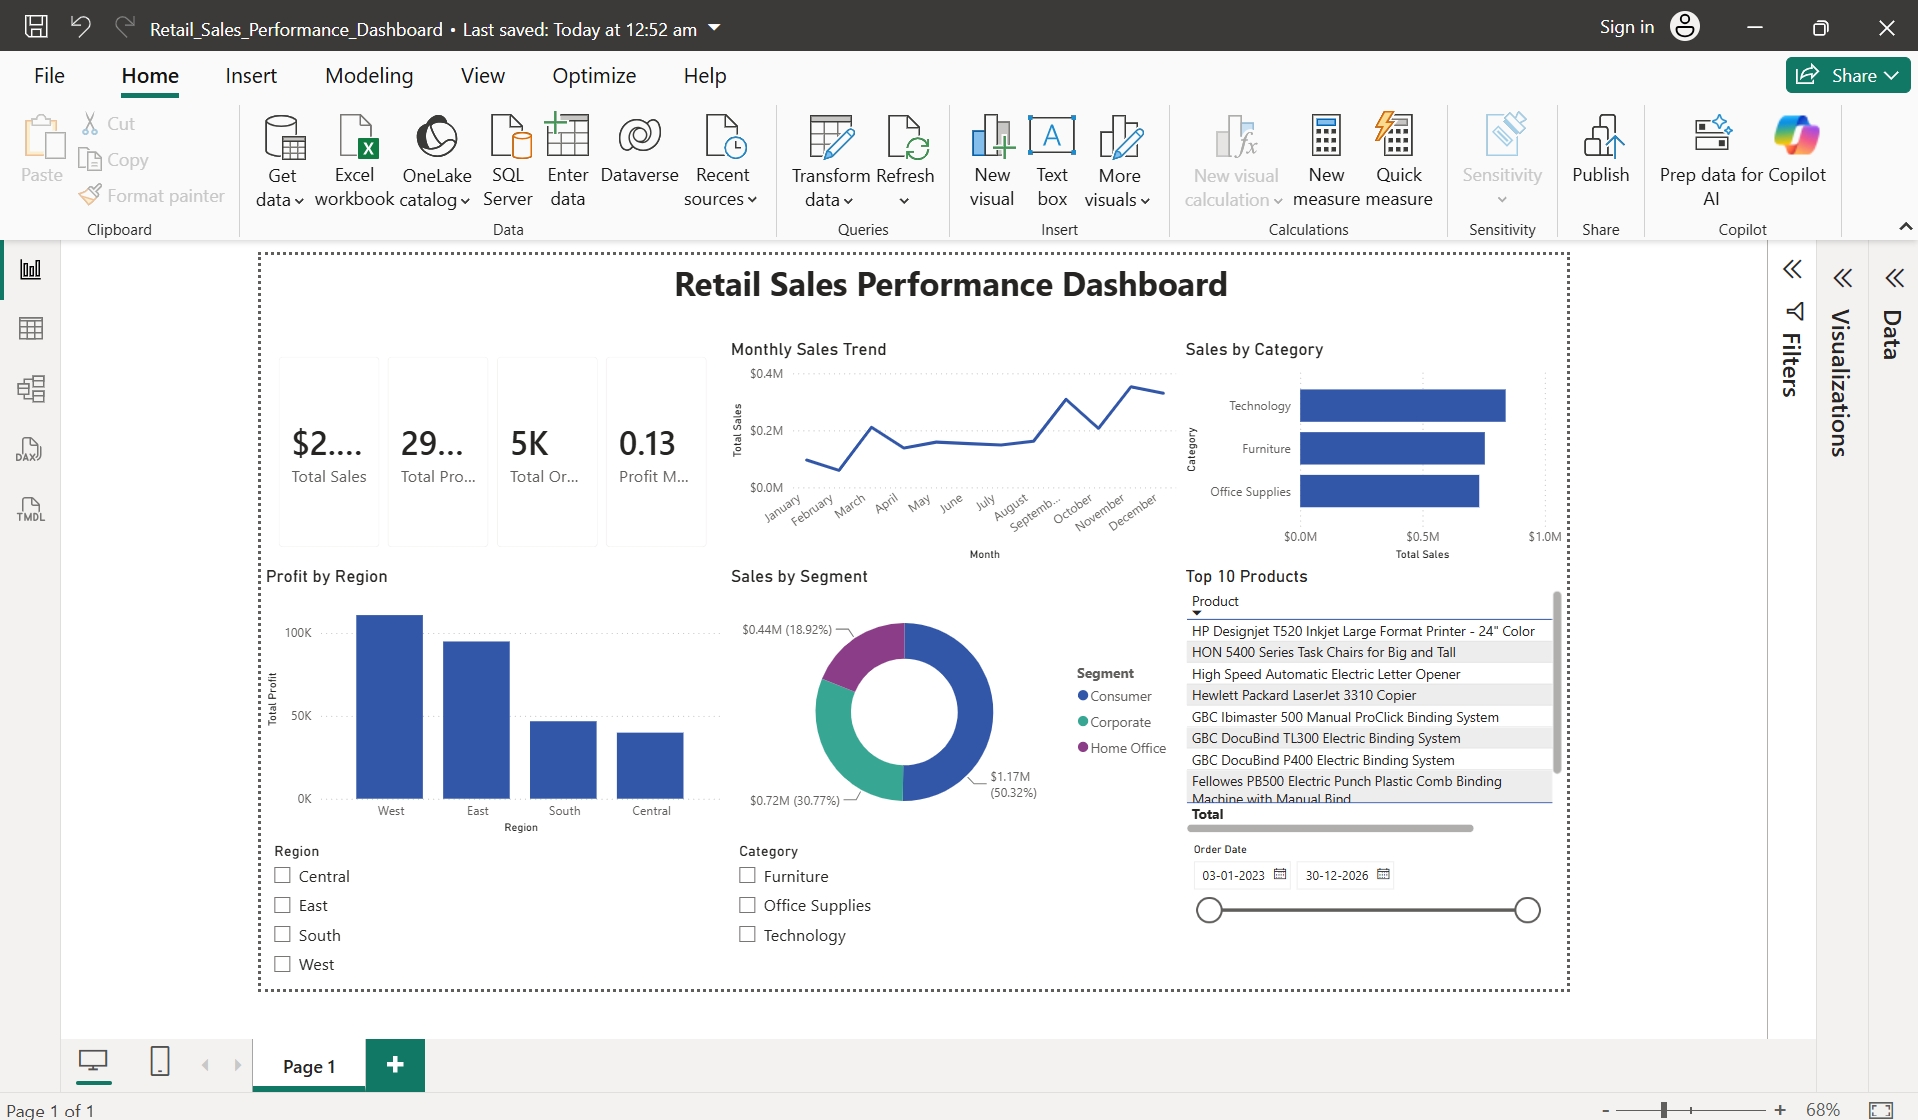

What the dashboard file says about the page in this screenshot:
{"tool":"powerbi","page":{"name":"Page 1","canvas":[1280,720],"ordinal":0},"visuals":[{"type":"cardVisual","fields":{"Data":["Orders.Total Sales","Orders.Total Profit","Orders.Total Orders","Orders.Profit Margin %"]},"box":[0,82.7,455.8,221.2],"z":0},{"type":"lineChart","title":"Monthly Sales Trend","fields":{"Category":["Orders.Order Date.Variation.Date Hierarchy.Quarter","Orders.Order Date.Variation.Date Hierarchy.Month","Orders.Order Date.Variation.Date Hierarchy.Day"],"Y":["Orders.Total Sales"]},"box":[455.8,82.7,446.2,221.2],"z":1000},{"type":"clusteredBarChart","title":"Sales by Category","fields":{"Category":["Orders.Category"],"Y":["Orders.Total Sales"]},"box":[901.9,82.7,378.8,221.2],"z":2000},{"type":"tableEx","title":"Top 10 Products","fields":{"Values":["Orders.Product","Orders.Total Sales"]},"box":[901.9,303.8,378.8,267.3],"z":3000},{"type":"donutChart","title":"Sales by Segment","fields":{"Category":["Orders.Segment"],"Y":["Orders.Total Sales"]},"box":[455.8,303.8,446.2,267.3],"z":4000},{"type":"clusteredColumnChart","title":"Profit by Region","fields":{"Category":["Orders.Region"],"Y":["Orders.Total Profit"]},"box":[0,303.8,455.8,267.3],"z":5000},{"type":"slicer","fields":{"Values":["Orders.Region"]},"box":[0,571.2,455.8,148.1],"z":6000},{"type":"slicer","fields":{"Values":["Orders.Category"]},"box":[455.8,571.2,446.2,148.1],"z":7000},{"type":"slicer","fields":{"Values":["Orders.Order Date"]},"box":[901.9,571.2,361.5,148.1],"z":8000},{"type":"textbox","box":[400,0,557.7,55.8],"z":9000}]}

Visuals, with their boxes on the page's 1280x720 design canvas (x1, y1, x2, y2). These are canvas units, not pixel positions in the 1918x1120 screenshot, which may show the page scaled, cropped or inside an application window:
cardVisual - Orders.Total Sales x Orders.Total Profit: bbox=(0, 83, 456, 304)
"Monthly Sales Trend" lineChart: bbox=(456, 83, 902, 304)
"Sales by Category" clusteredBarChart: bbox=(902, 83, 1281, 304)
"Top 10 Products" tableEx: bbox=(902, 304, 1281, 571)
"Sales by Segment" donutChart: bbox=(456, 304, 902, 571)
"Profit by Region" clusteredColumnChart: bbox=(0, 304, 456, 571)
slicer - Orders.Region: bbox=(0, 571, 456, 719)
slicer - Orders.Category: bbox=(456, 571, 902, 719)
slicer - Orders.Order Date: bbox=(902, 571, 1263, 719)
textbox: bbox=(400, 0, 958, 56)
